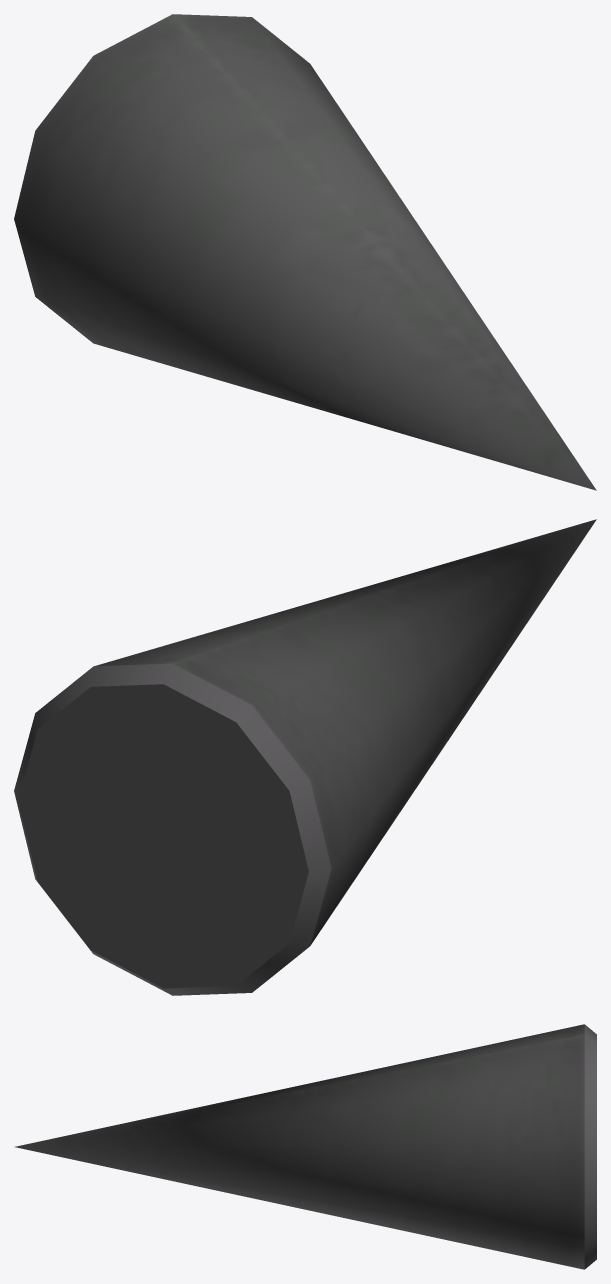
The model's file is enm_yadorin_needle.model.dae.
The picture shows the model from 3 angles, top to bottom: view 1: azimuth 30°, elevation 25°; view 2: azimuth 150°, elevation 25°; view 3: azimuth 270°, elevation 25°; orthographic projection. The views are drawn at different scales.
Parts seen in each view (by area): view 1: enm_yadorin_needle; view 2: enm_yadorin_needle; view 3: enm_yadorin_needle.
Boxes of the visible parts, x1,y1,x2,y2 form: enm_yadorin_needle: (14,14,596,490); enm_yadorin_needle: (14,519,596,995); enm_yadorin_needle: (15,1024,596,1269).
Bounding box in the file's own units: 0.1978 × 0.4676 × 0.1978.
Materials: 1 (1 with a texture image).
